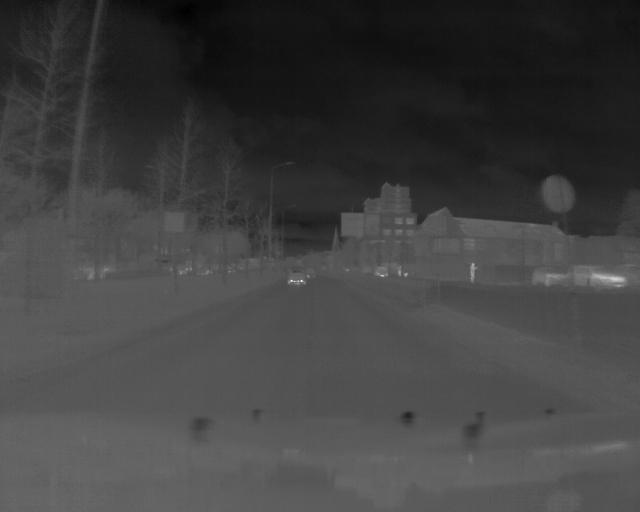car: (572, 264, 629, 297), (530, 265, 567, 291), (284, 267, 310, 287)
person: (467, 259, 478, 289)
